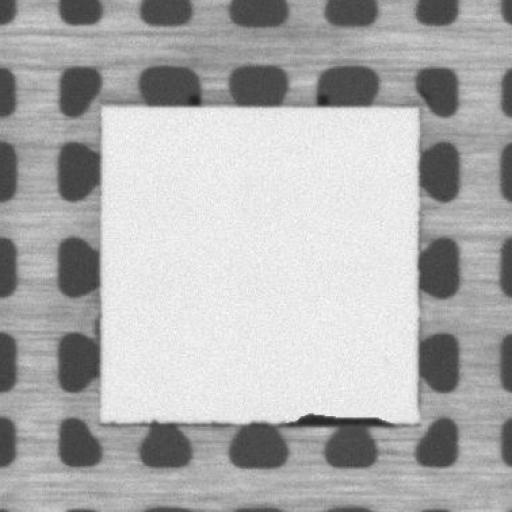DIE_BROKEN: (274, 405, 396, 427)
